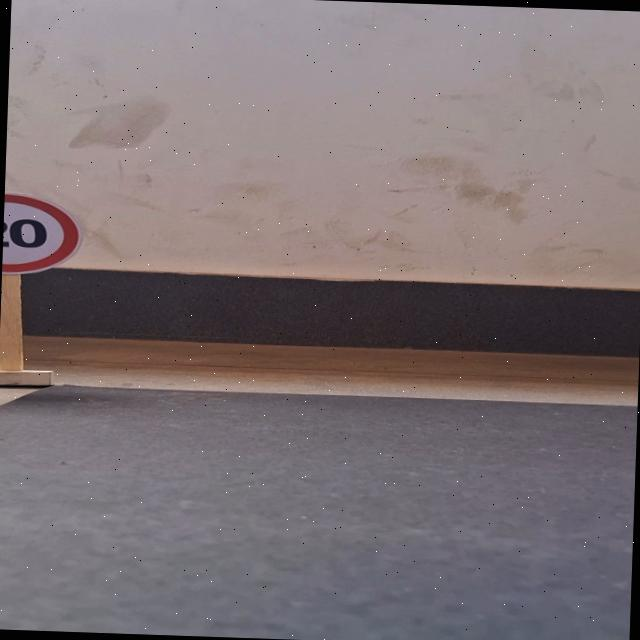Speed20: (2, 188, 82, 279)
